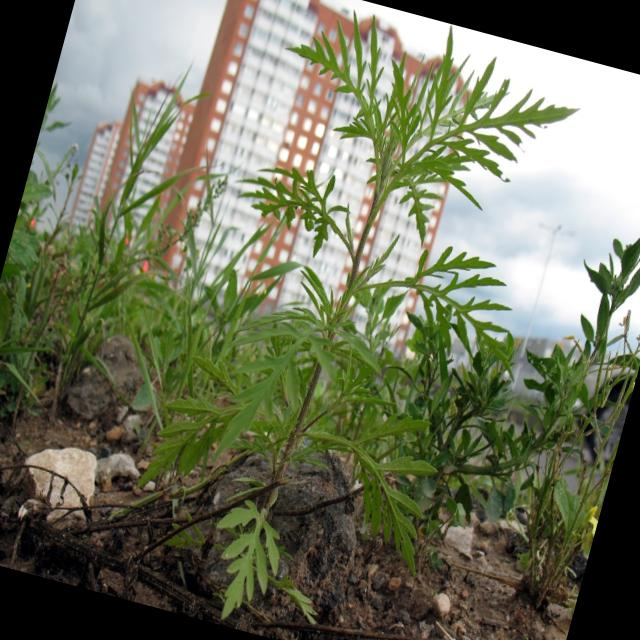ambrosia: (104, 242, 486, 636), (261, 1, 557, 264)
